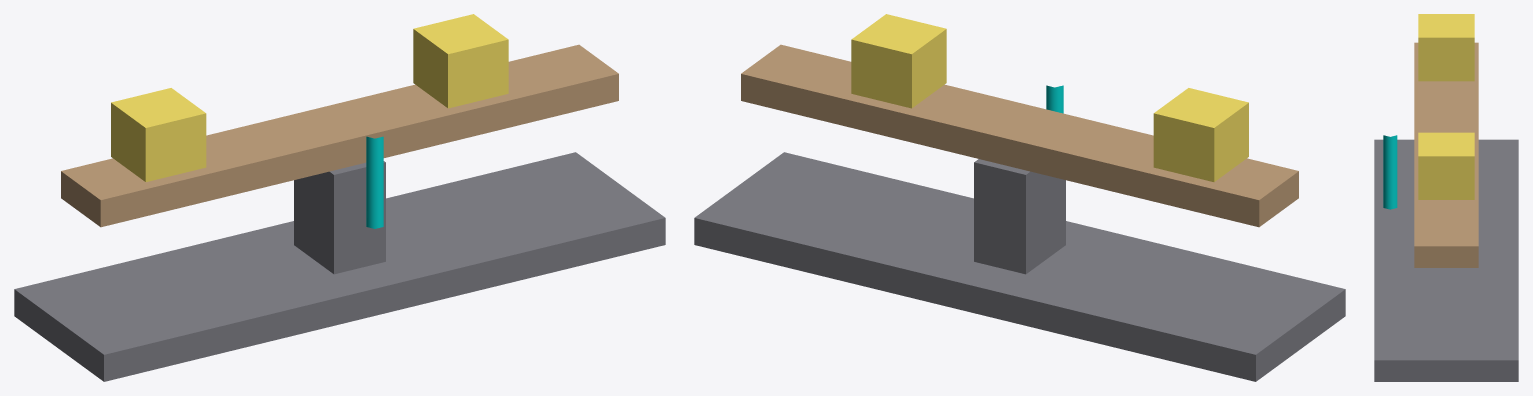
The model's file is set_puente.glb.
3 renders of one model, left to right at view 1: azimuth 30°, elevation 25°; view 2: azimuth 150°, elevation 25°; view 3: azimuth 270°, elevation 25°, orthographic. The views are drawn at different scales.
Visible parts, largest first — view 1: suelo, tablon, fulcro, pesa_dcha, pesa_izq, plomada; view 2: suelo, tablon, fulcro, pesa_dcha, pesa_izq; view 3: suelo, tablon, pesa_izq, pesa_dcha, plomada.
Part boxes in pixels (x1,y1,x2,y2): suelo: [14, 152, 665, 381]; tablon: [61, 44, 618, 227]; fulcro: [294, 161, 385, 274]; pesa_dcha: [413, 14, 508, 108]; pesa_izq: [111, 88, 206, 181]; plomada: [366, 136, 383, 228]; suelo: [694, 152, 1345, 381]; tablon: [741, 44, 1298, 227]; fulcro: [974, 159, 1065, 274]; pesa_dcha: [851, 14, 946, 108]; pesa_izq: [1153, 88, 1248, 181]; suelo: [1374, 139, 1518, 381]; tablon: [1414, 42, 1478, 267]; pesa_izq: [1418, 14, 1474, 81]; pesa_dcha: [1418, 132, 1474, 199]; plomada: [1383, 135, 1397, 209].
Bounding box in the file's own units: 1.3 × 0.48 × 0.36.
